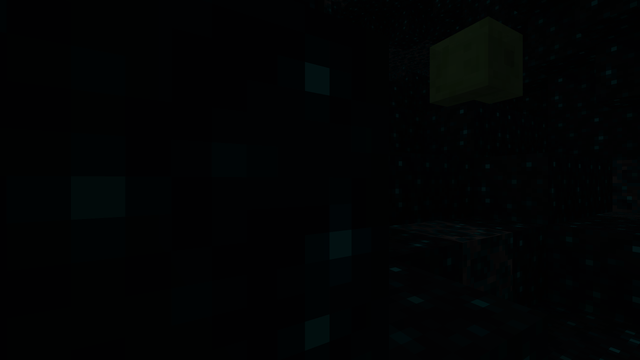slimes: (428, 12, 524, 107)
